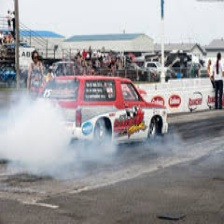smoke: (1, 100, 105, 161)
